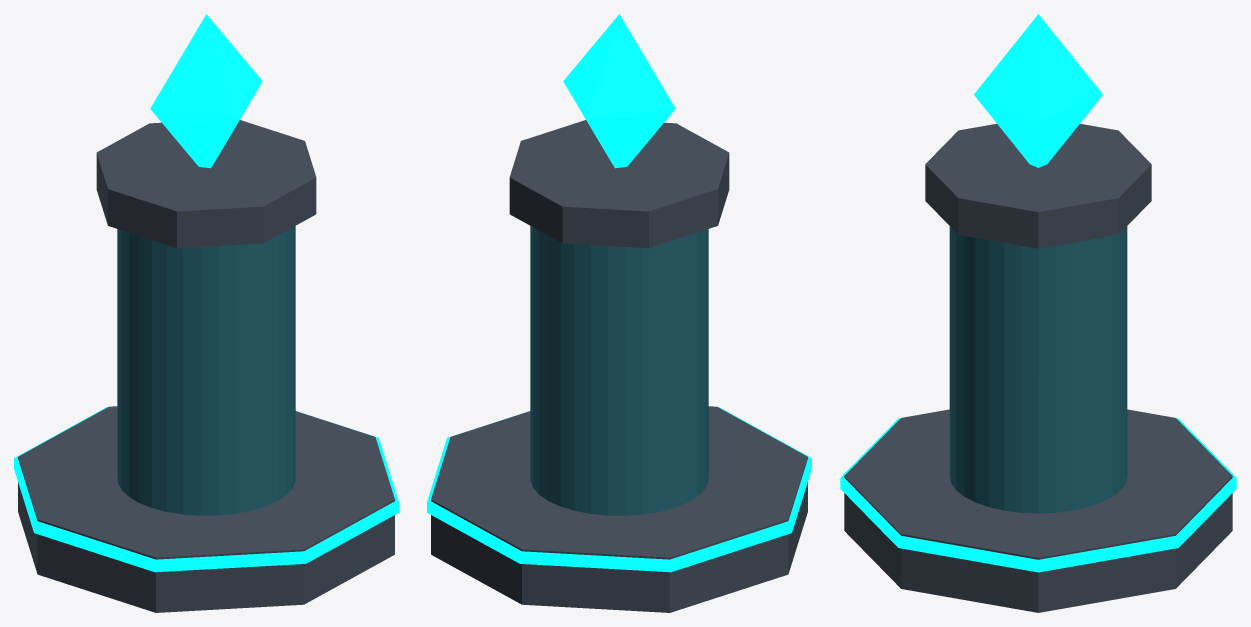
File: DataWell_Core3D.fbx
3 renders of one model, left to right at view 1: azimuth 30°, elevation 25°; view 2: azimuth 150°, elevation 25°; view 3: azimuth 270°, elevation 25°, orthographic.
Visible parts, largest first — view 1: DataWell_CoreCylinder, DataWell_PedestalBase, DataWell_EmitterCap, HoloCrystal_Top, DataWell_BaseNeonRing, HoloCrystal_Bot; view 2: DataWell_CoreCylinder, DataWell_PedestalBase, DataWell_EmitterCap, HoloCrystal_Top, DataWell_BaseNeonRing, HoloCrystal_Bot; view 3: DataWell_CoreCylinder, DataWell_PedestalBase, DataWell_EmitterCap, HoloCrystal_Top, DataWell_BaseNeonRing, HoloCrystal_Bot.
Boxes of the visible parts, box(x1,y1,x2,y2) form: DataWell_CoreCylinder: box(117, 226, 295, 515); DataWell_PedestalBase: box(18, 406, 394, 612); DataWell_EmitterCap: box(96, 120, 316, 248); HoloCrystal_Top: box(150, 14, 262, 118); DataWell_BaseNeonRing: box(14, 407, 398, 572); HoloCrystal_Bot: box(150, 85, 260, 168); DataWell_CoreCylinder: box(530, 226, 708, 515); DataWell_PedestalBase: box(431, 406, 807, 612); DataWell_EmitterCap: box(509, 120, 729, 248); HoloCrystal_Top: box(563, 14, 675, 118); DataWell_BaseNeonRing: box(427, 407, 811, 572); HoloCrystal_Bot: box(565, 85, 675, 168); DataWell_CoreCylinder: box(949, 226, 1127, 513); DataWell_PedestalBase: box(844, 409, 1232, 612); DataWell_EmitterCap: box(925, 123, 1151, 248); HoloCrystal_Top: box(974, 14, 1102, 121); DataWell_BaseNeonRing: box(840, 418, 1236, 572); HoloCrystal_Bot: box(974, 95, 1102, 167).
Size of what is drawn, in the model's own units: 0.98 by 1.41 by 0.98.
